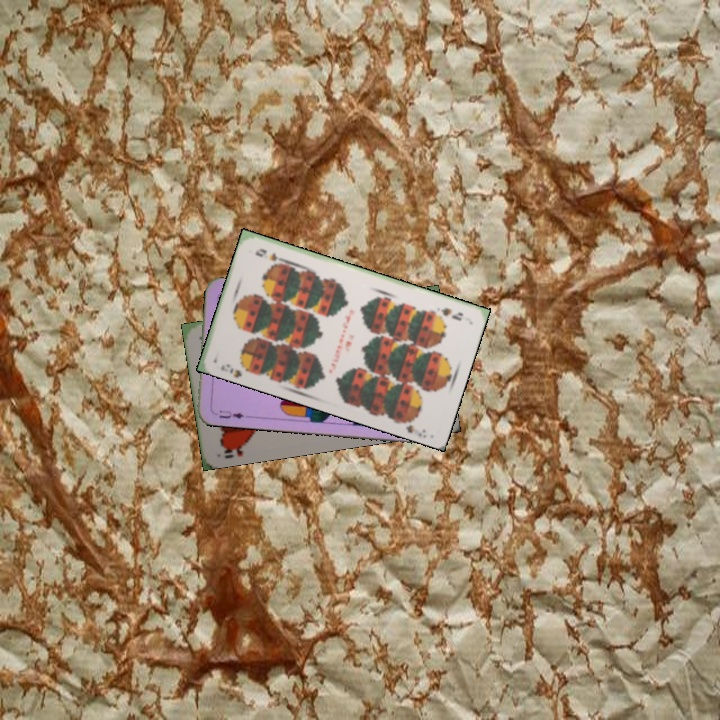EU: (209, 406, 247, 421)
HO: (217, 439, 252, 461)
S9: (217, 359, 254, 376), (437, 303, 466, 323)
